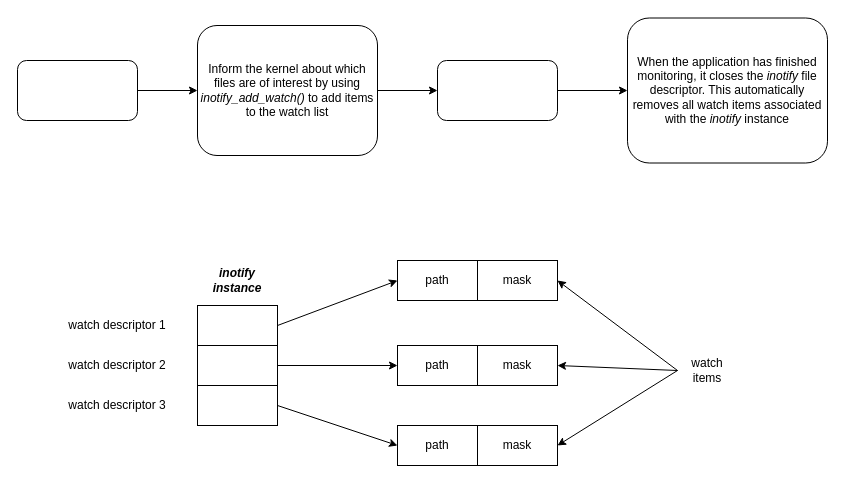
Image size: 845x483. Some labels were removed from this diagram. Here are the shapes that lost their labels. From the top down, the centre of each, then its label:
the point at 77,90: Create an inotify instance with inotify_init()
the point at 497,90: Using read(...) operations on the inotify file descriptor
